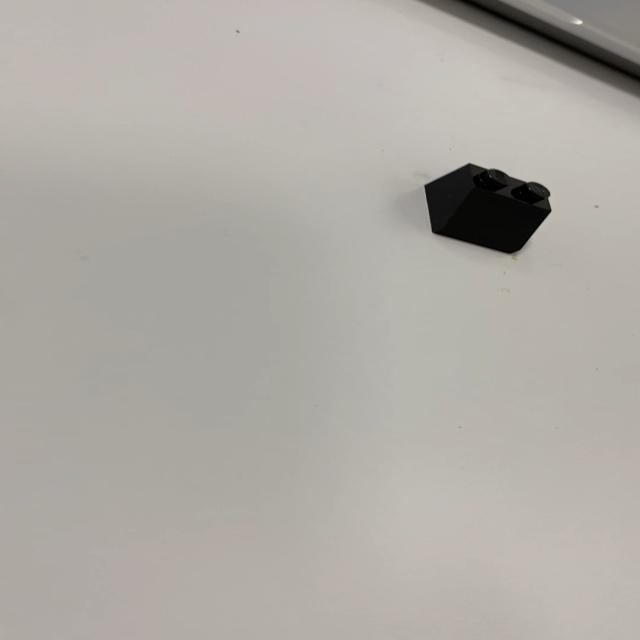P2x2x1: (422, 162, 552, 255)
